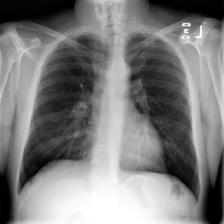normal: (15, 24, 204, 204)
